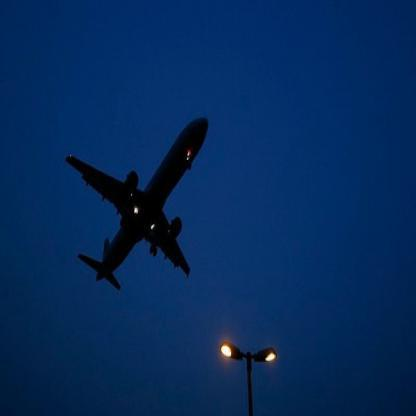CIV_Plane: (63, 110, 209, 305)
